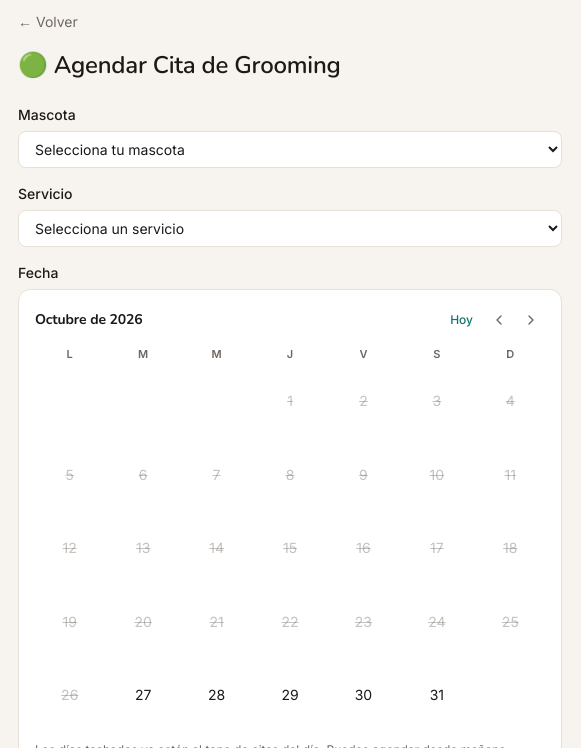
Test: AppointmentPage › al elegir mascota y servicio muestra el precio estimado
Act — el usuario elige en los selects, buscados por su etiqueta.
Select "Luna" in the dropdown labelled "Mascota" at (290, 150), box [18,131,562,168]
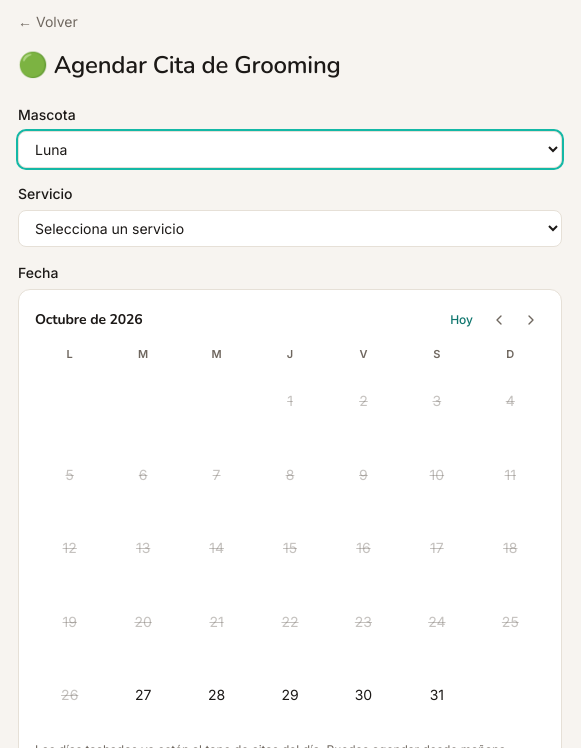
Select "Baño completo — desde $50.000" in the dropdown labelled "Servicio" at (290, 228), box [18,210,562,247]
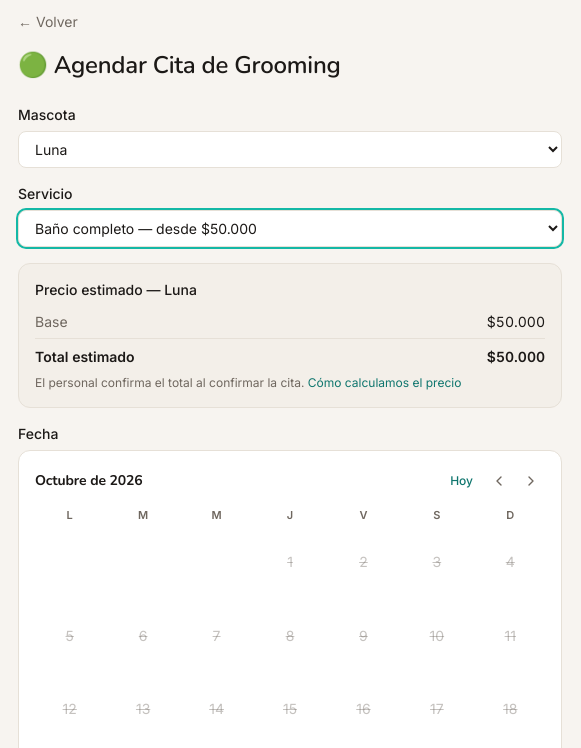
Expected: the text "Precio estimado — Luna" is shown, [35,281,197,298]
Expected: the text "Total estimado" is shown, [35,347,135,367]
